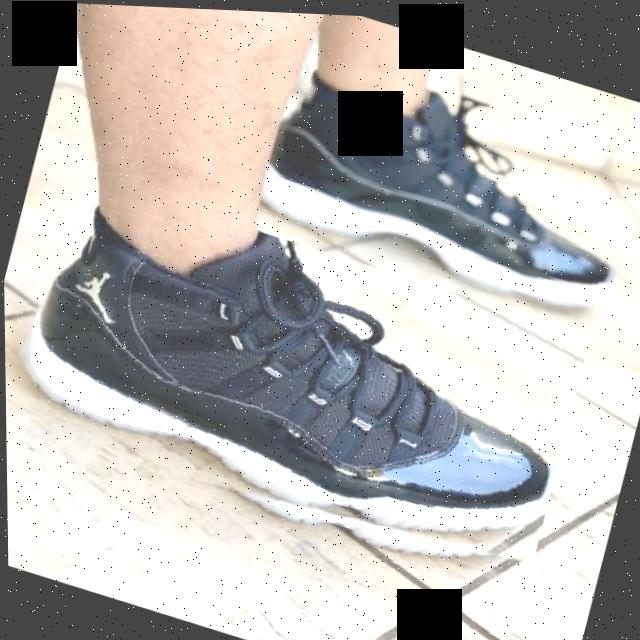shoe: (2, 169, 593, 591), (257, 45, 640, 321)
